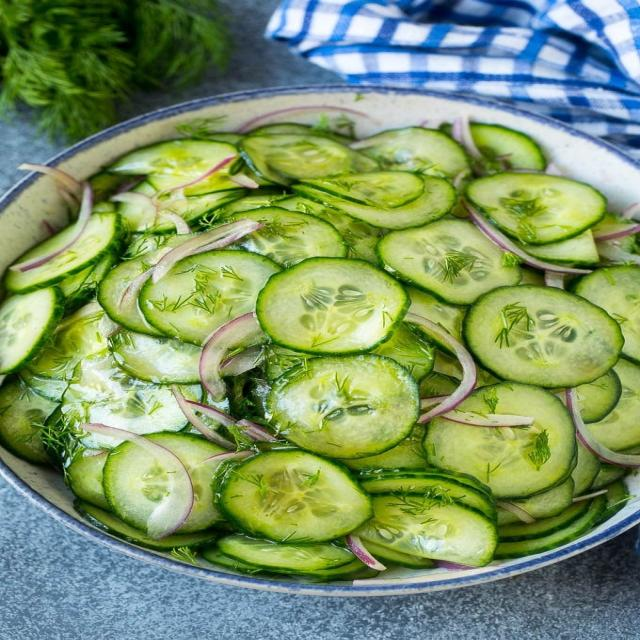Pickle: (424, 381, 578, 499), (463, 285, 624, 388), (266, 354, 420, 459), (103, 432, 246, 538), (255, 258, 411, 355), (218, 449, 373, 544), (354, 469, 497, 567), (139, 250, 281, 344), (60, 351, 188, 449), (377, 219, 519, 304), (356, 492, 497, 567), (465, 172, 608, 244), (4, 212, 126, 293), (292, 176, 458, 230), (109, 139, 240, 196), (229, 206, 347, 268), (495, 495, 608, 558), (349, 126, 471, 182), (572, 265, 640, 362), (0, 286, 64, 373), (218, 534, 356, 571), (111, 329, 202, 384), (587, 359, 640, 451), (300, 171, 424, 208), (62, 350, 148, 402), (266, 136, 354, 179), (471, 123, 546, 169), (66, 451, 111, 509)
